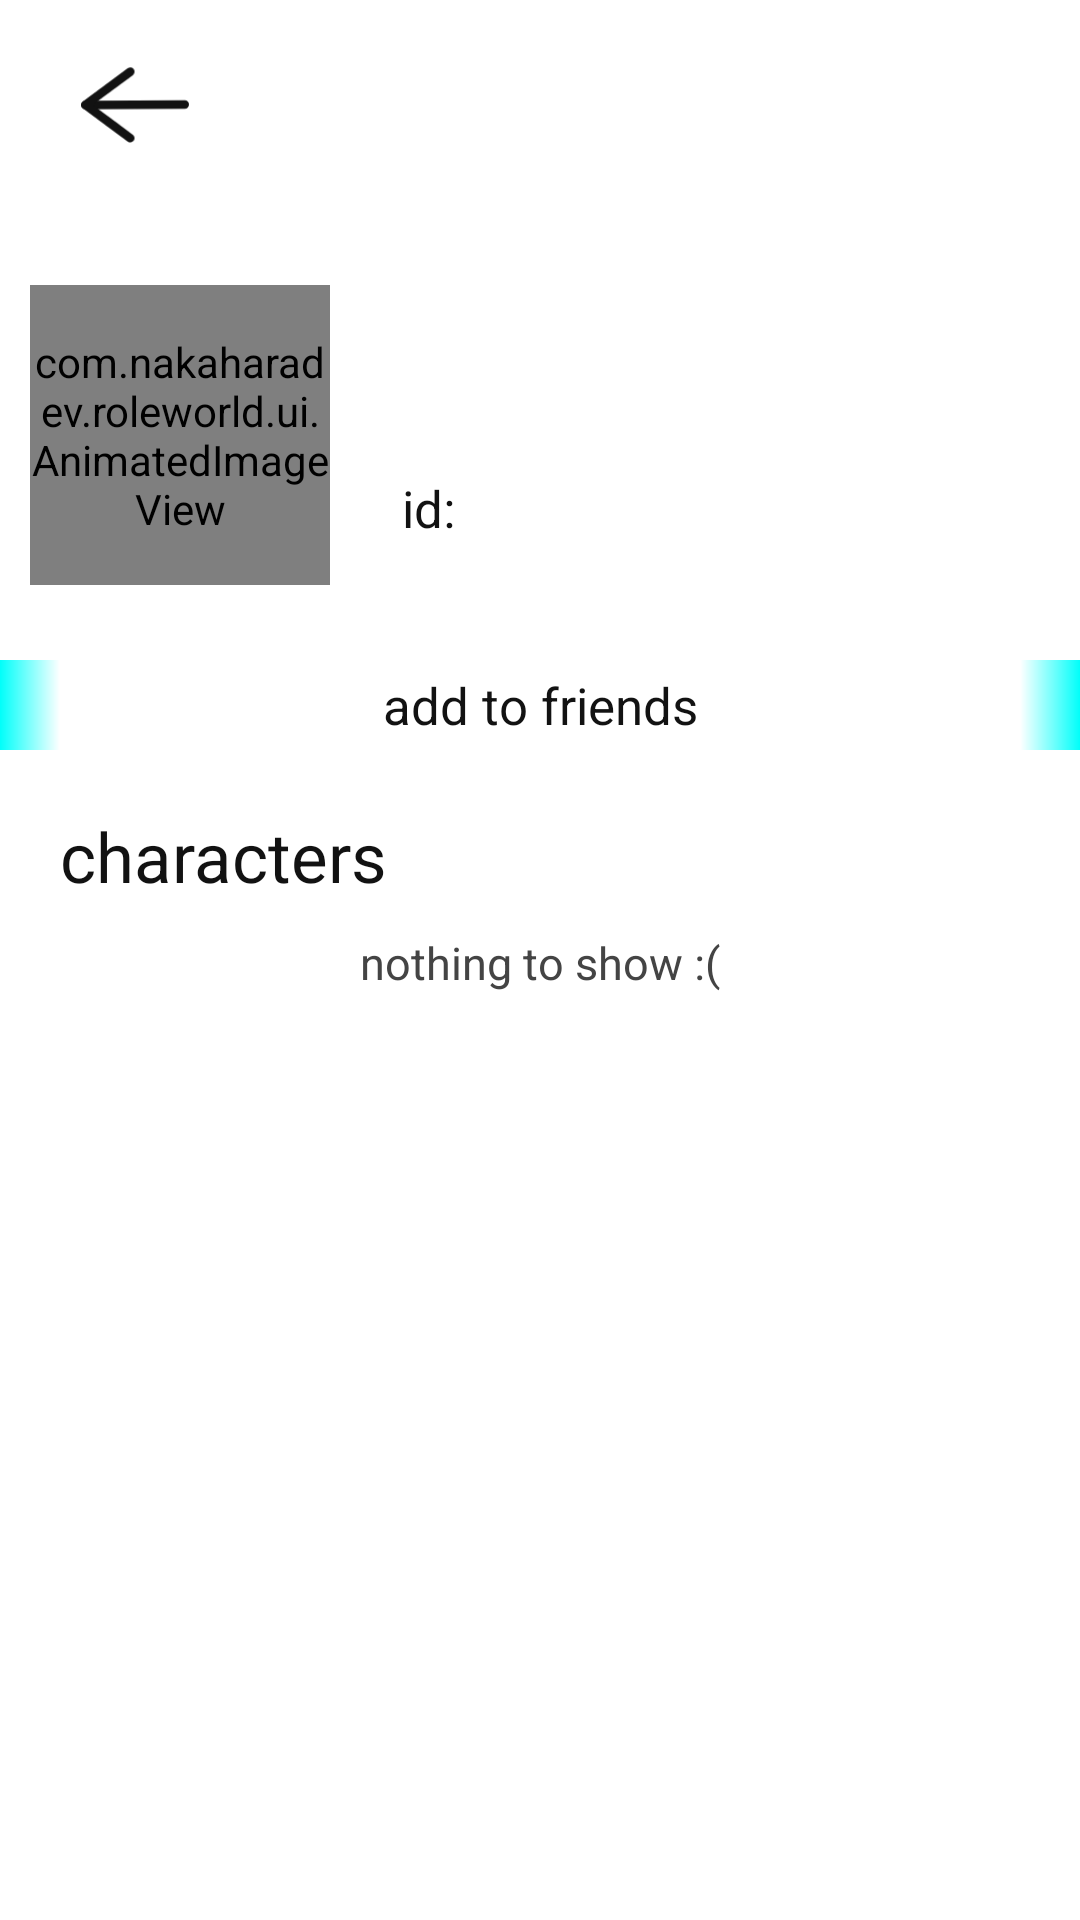

Screen size 1080x1920. Icon name, then its box in pixels as box=[x1, y1, x2, y2]:
back: box=[81, 67, 189, 143]
